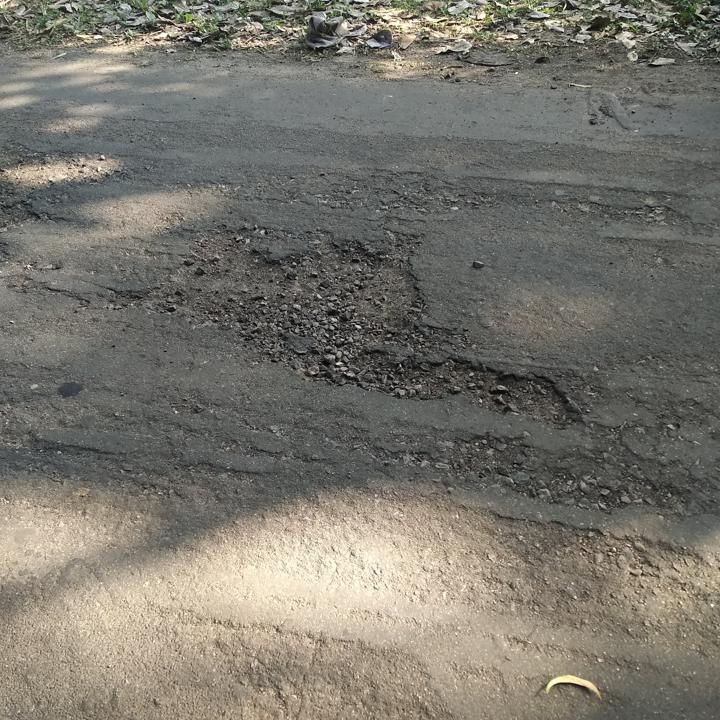pothole: (97, 222, 584, 434), (0, 195, 45, 236)
